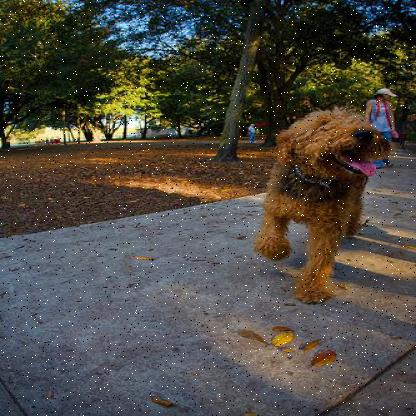dog: (252, 110, 390, 299)
